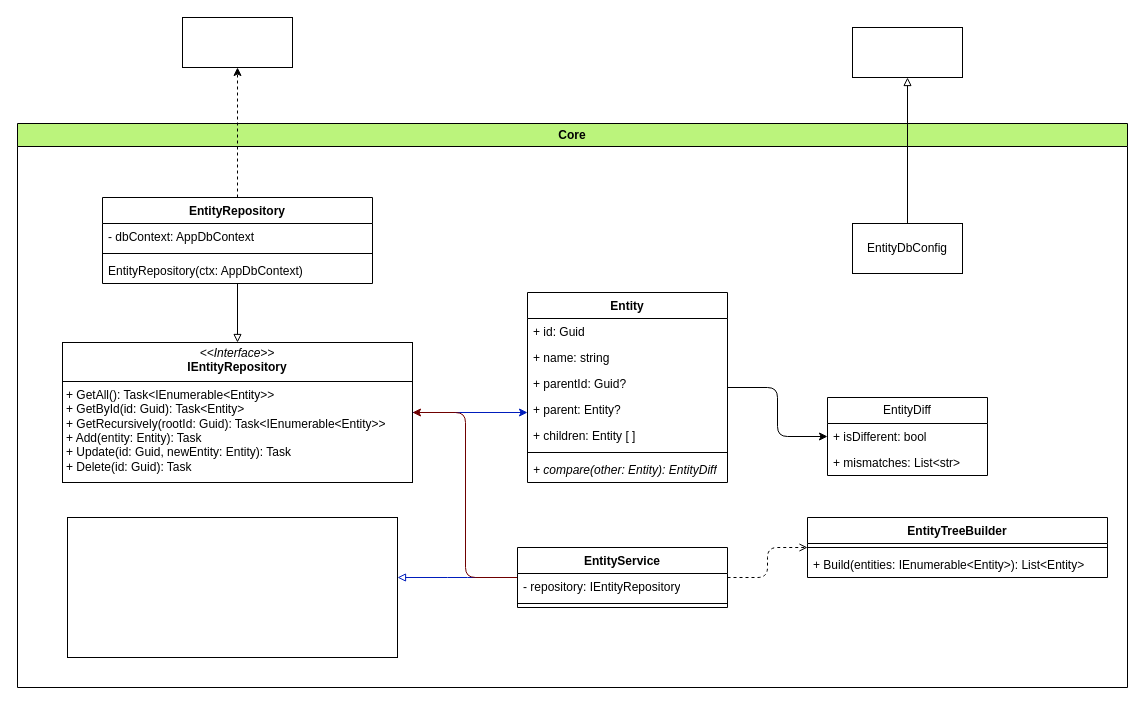
The diagram is 1145 pixels wide and 705 high, and some of its shapes have lost their labels. The shapes that lost their labels are listed below. From the top down, each one's centre as x and y in pixels, then its label:
At point 237,42: "AppDbContext".
At point 907,52: "«interface» IDbConfig".
At point 232,587: "<<Interface>> IEntityService + GetEntityTree(Guid rootId): Task<Entity>".
